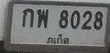txt01: (20, 8, 35, 28)
txt25: (35, 8, 50, 29)
